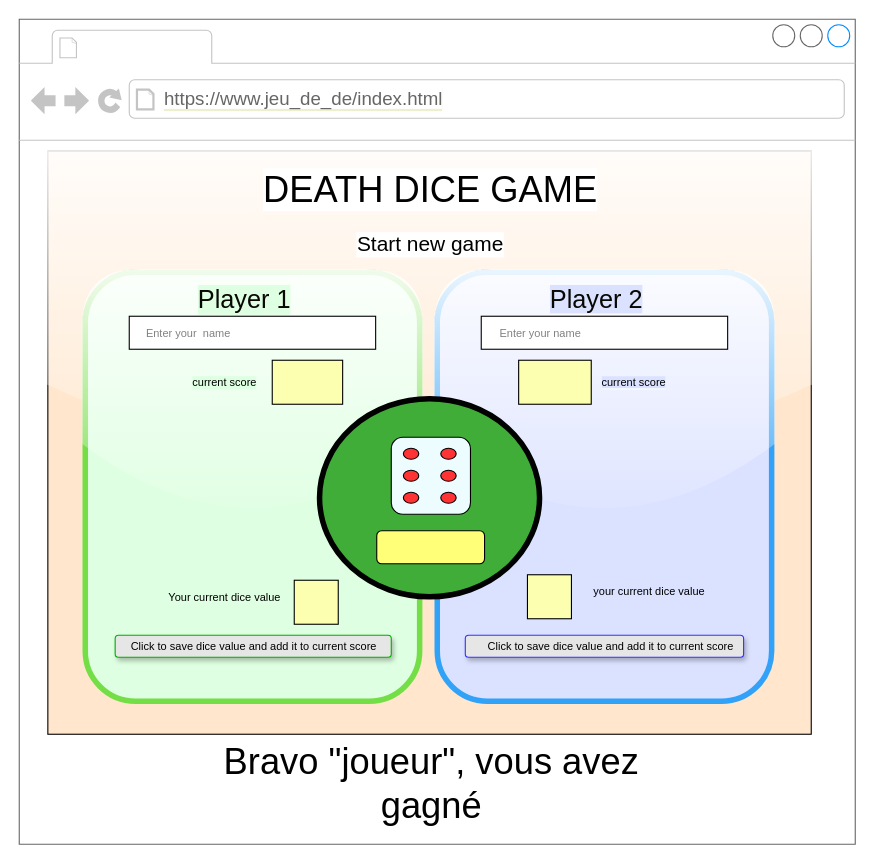
Some shapes in this 875 by 864 pixel diagram are drawn without their labels. Here are the shapes that lost their labels. From the top down, the centre of each, then its label:
At pixel 145 46: "Page 1".
At pixel 430 547: "roll the dice".
